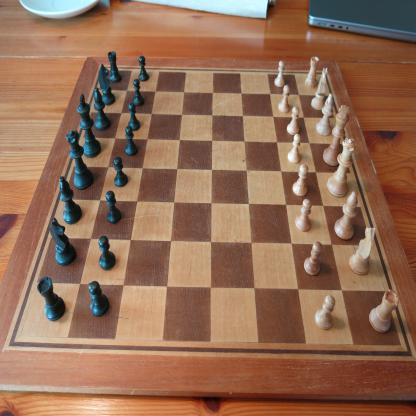black-bishop: (59, 176, 82, 224), (93, 87, 110, 130)
black-king: (77, 93, 101, 158)
black-knight: (50, 217, 76, 266), (98, 63, 116, 106)
black-pawn: (88, 280, 110, 317), (98, 235, 116, 271), (106, 190, 121, 224), (113, 156, 128, 188), (124, 125, 138, 156), (128, 102, 140, 132), (132, 78, 144, 107), (138, 55, 150, 82)
black-queen: (65, 130, 94, 191)
black-rook: (37, 276, 66, 322), (108, 51, 122, 84)
white-bishop: (334, 190, 358, 241), (315, 93, 334, 137)
white-king: (322, 104, 350, 167)
white-knight: (349, 227, 376, 276), (311, 67, 328, 111)
white-pawn: (314, 295, 336, 330), (303, 241, 323, 277), (295, 198, 312, 233), (292, 164, 309, 197), (288, 133, 302, 164), (286, 106, 300, 136), (278, 84, 290, 114), (274, 60, 286, 88)
white-queen: (327, 137, 357, 198)
white-rook: (368, 289, 400, 334), (304, 56, 320, 89)
